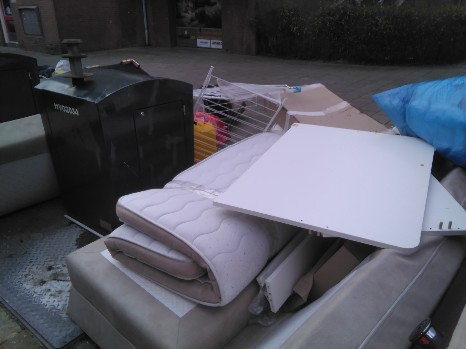Container: (60, 74, 184, 226)
Papier: (193, 78, 282, 137), (294, 78, 376, 135)
Rest: (46, 208, 287, 349), (200, 119, 314, 295), (286, 121, 407, 255), (328, 263, 465, 344), (402, 67, 466, 139)
